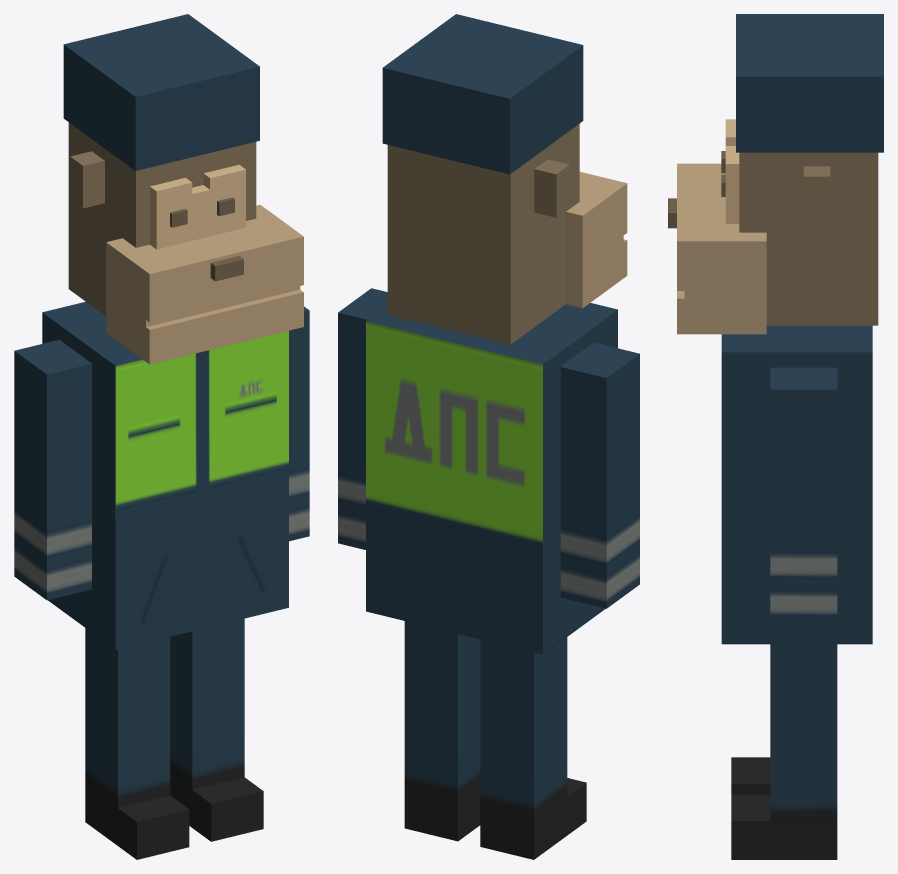
The model's file is monkey_dps_animation.glb.
The picture shows the model from 3 angles, left to right: view 1: azimuth 30°, elevation 25°; view 2: azimuth 150°, elevation 25°; view 3: azimuth 270°, elevation 25°; orthographic projection. The views are drawn at different scales.
Parts seen in each view (by area): view 1: Cube.012, Cube.009, Cube.013, Cube.016, Cube.014, Cube.004; view 2: Cube.009, Cube.012, Cube.013, Cube.016, Cube.014, Cube.004; view 3: Cube.012, Cube.009, Cube.004, Cube.014, Cube.016.
Boxes of the visible parts, x1,y1,x2,y2 form: Cube.012: [63, 14, 303, 364]; Cube.009: [42, 301, 288, 649]; Cube.013: [14, 339, 91, 600]; Cube.016: [85, 628, 189, 859]; Cube.014: [170, 618, 263, 841]; Cube.004: [289, 306, 309, 541]; Cube.009: [366, 303, 617, 654]; Cube.012: [382, 14, 627, 344]; Cube.013: [560, 342, 639, 608]; Cube.016: [480, 637, 586, 859]; Cube.014: [404, 621, 480, 841]; Cube.004: [338, 288, 387, 549]; Cube.012: [668, 14, 883, 334]; Cube.009: [721, 325, 872, 644]; Cube.004: [770, 367, 837, 621]; Cube.014: [731, 644, 837, 859]; Cube.016: [731, 757, 770, 794].
Bounding box in the file's own units: 0.1834 × 0.5076 × 0.1268.
8 materials, 3 textured.
